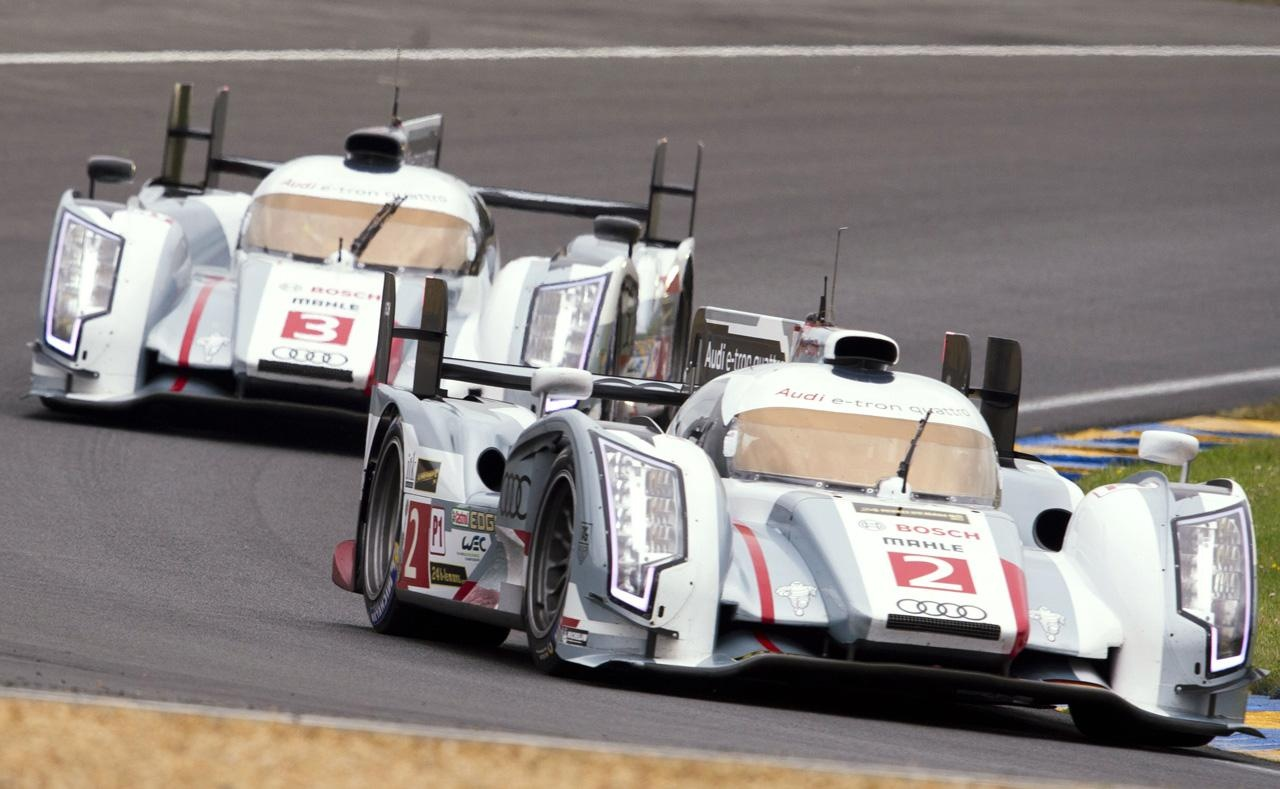racing car: (357, 275, 1253, 751)
